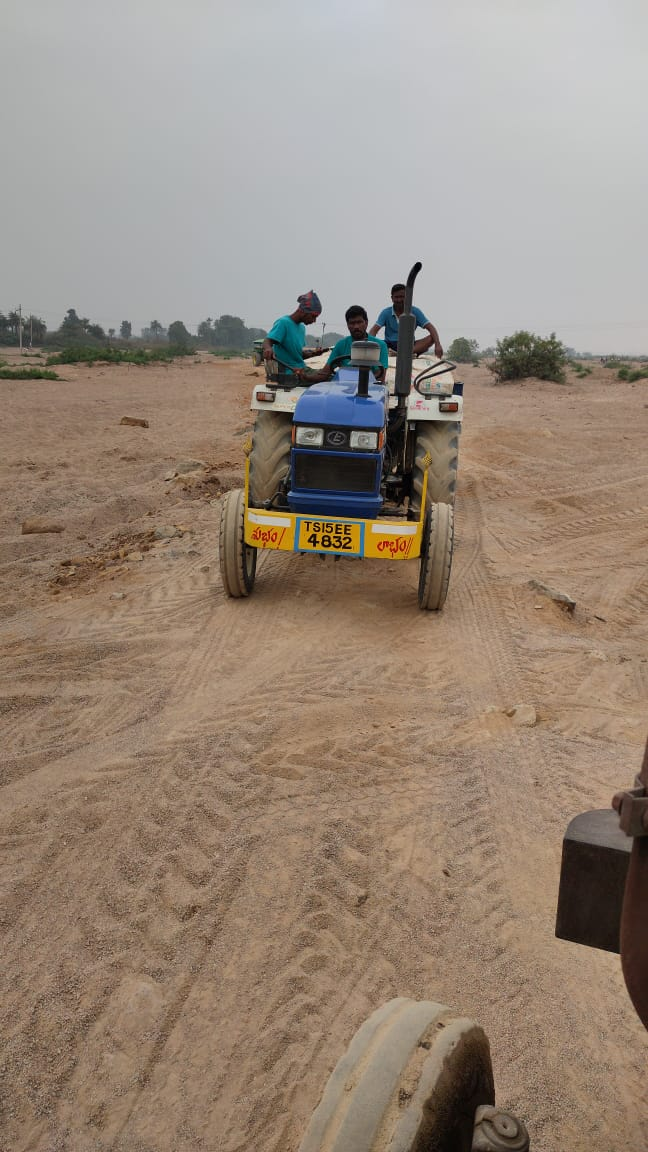num_plate: (294, 515, 362, 555)
